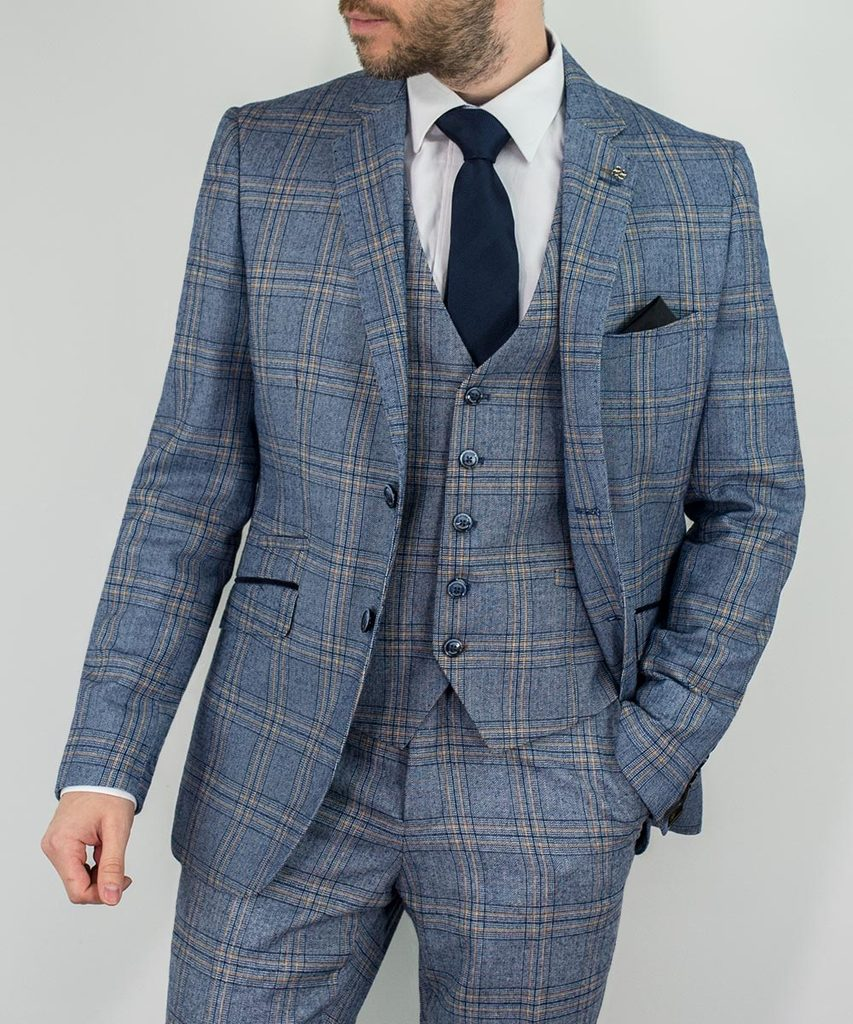F_M_suit jacket: (50, 81, 809, 829)
F_dress pants: (166, 706, 641, 1007)
F_pocket square: (623, 271, 669, 372)
F_tie: (426, 111, 520, 365)
